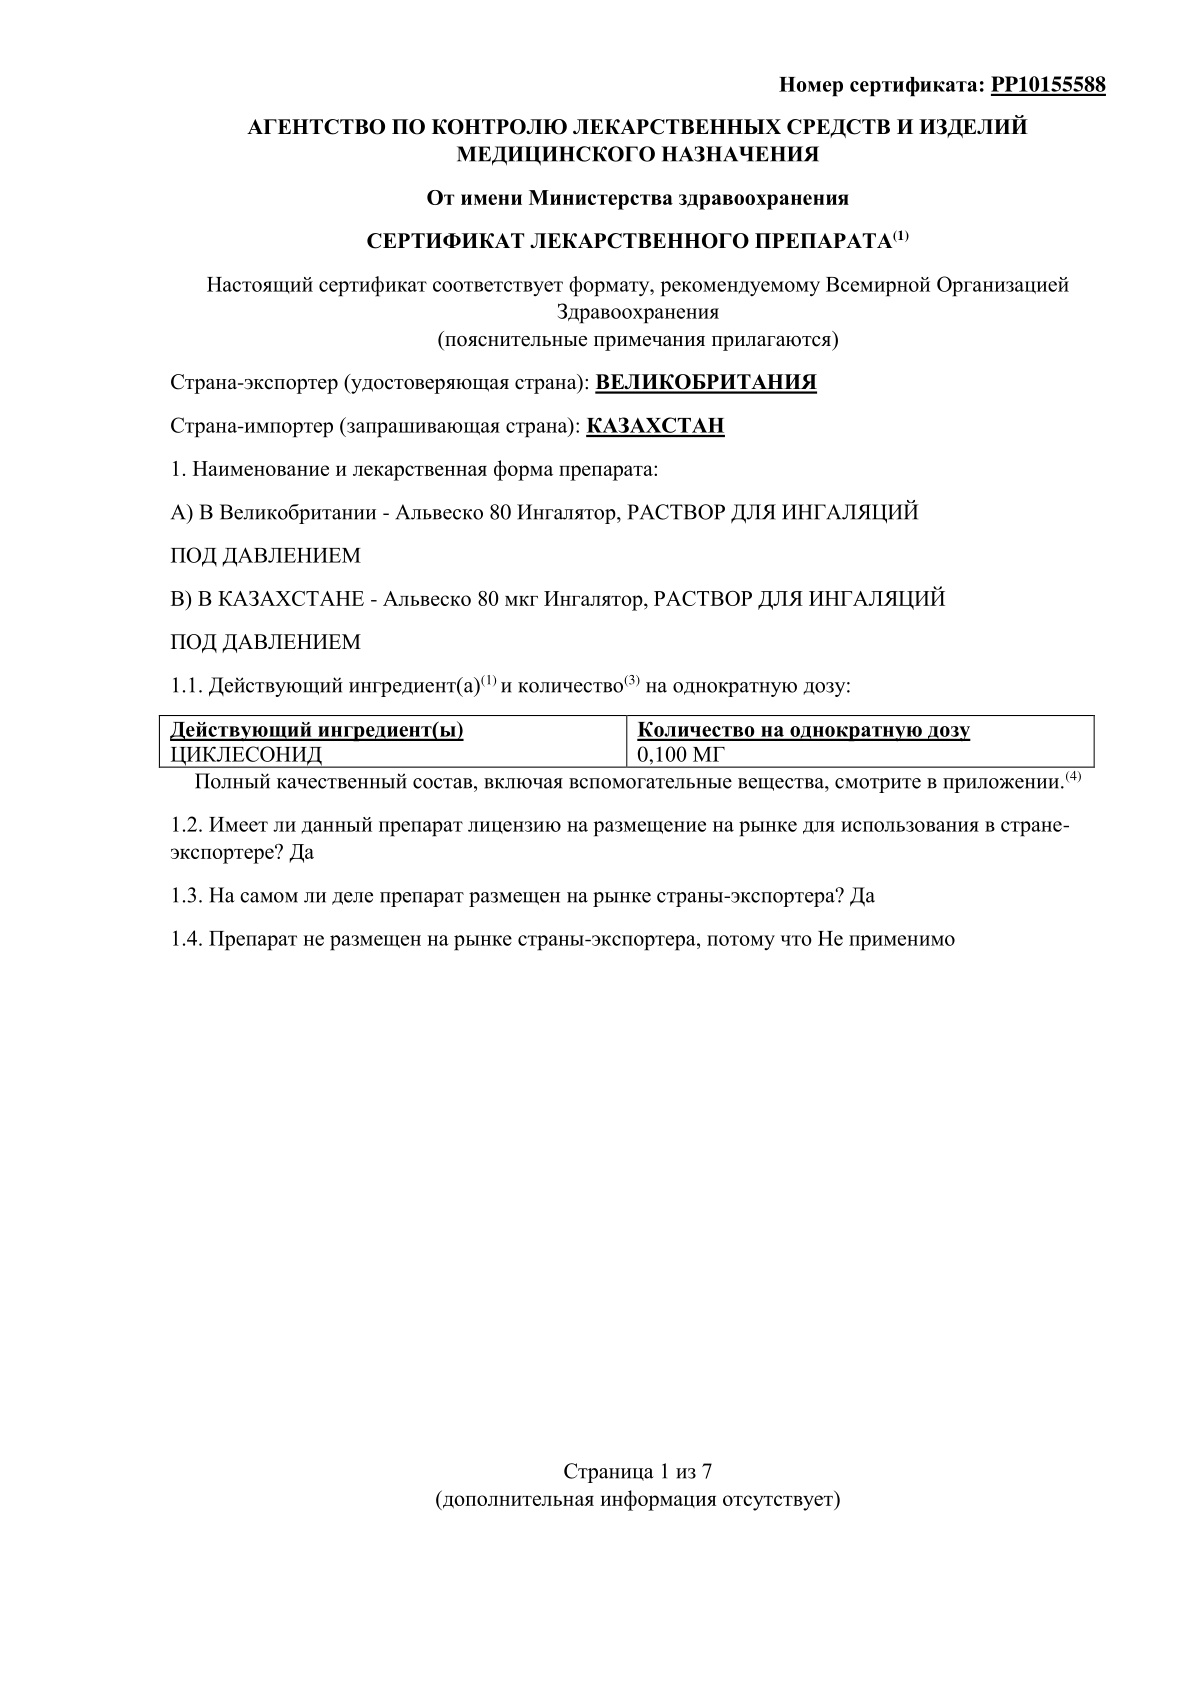partial_lined: (157, 714, 1096, 769)
